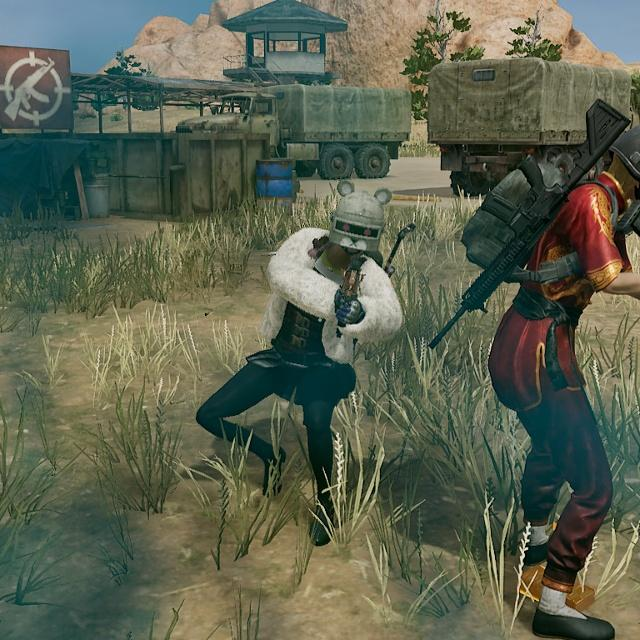head: (323, 180, 394, 267), (603, 120, 640, 209)
people: (483, 107, 640, 640), (191, 178, 415, 542)
